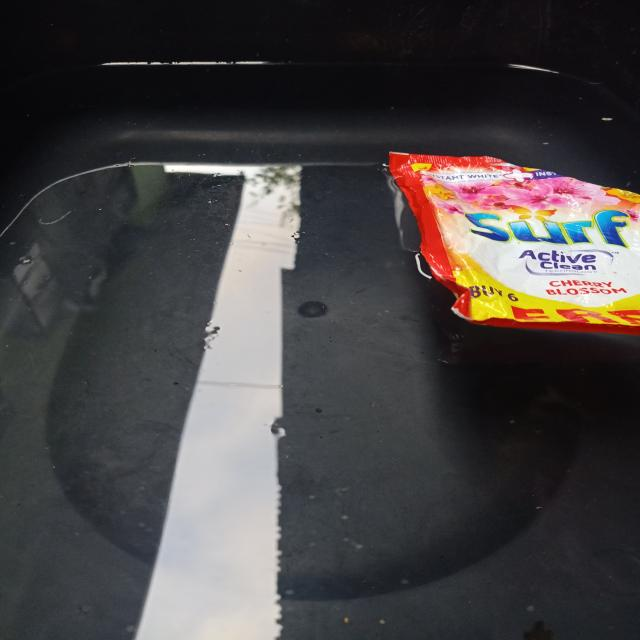Plastic Wrapper: (390, 153, 640, 334)
